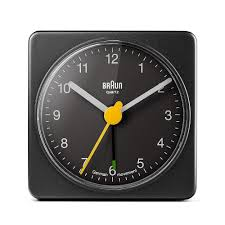alarm_clock: (24, 30, 196, 198)
